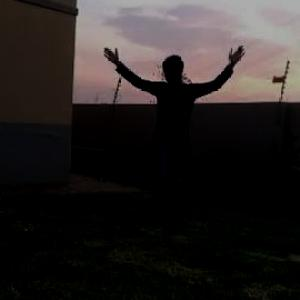takeoff: (101, 33, 257, 215)
